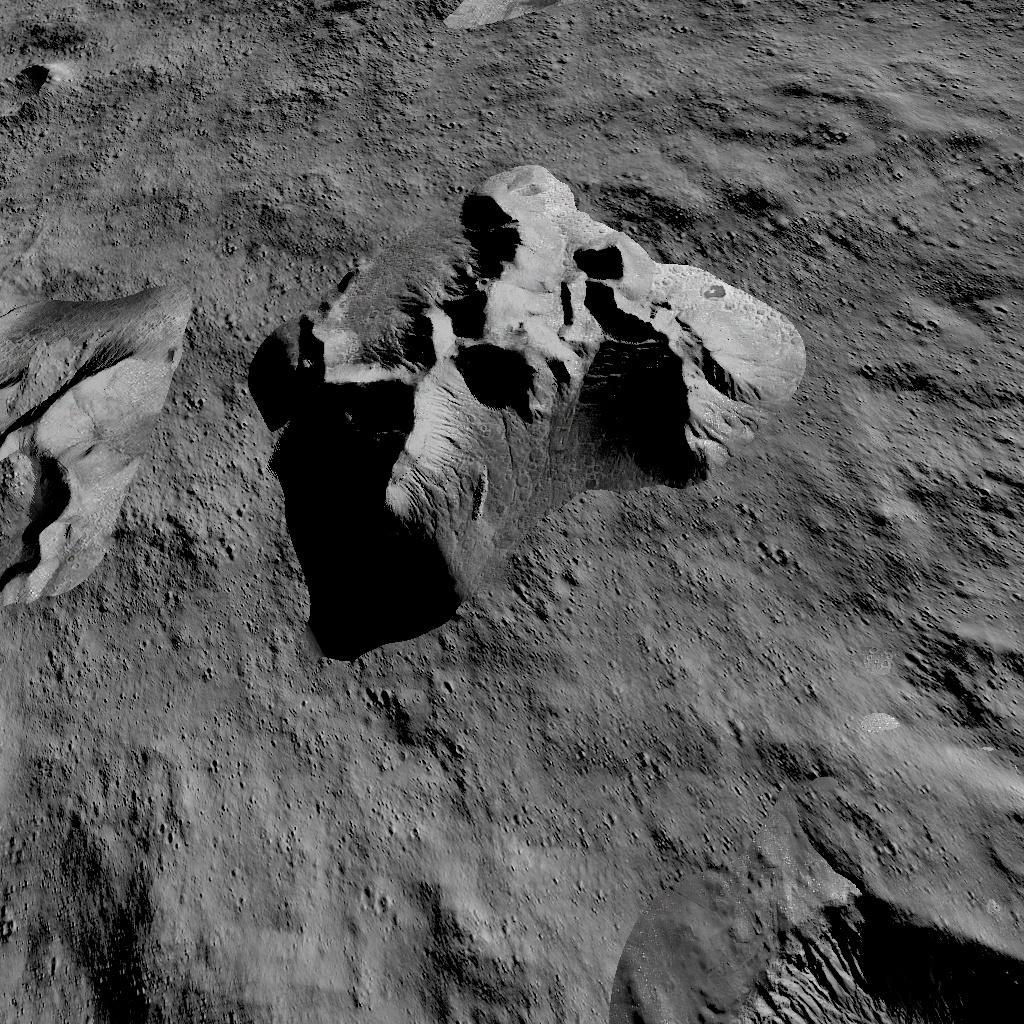Boulders: (245, 152, 809, 664), (4, 269, 188, 626)
Crater: (629, 857, 1024, 1024), (914, 618, 1022, 767), (81, 953, 155, 1024), (2, 46, 67, 108)
Plan surface: (185, 693, 598, 1024), (93, 2, 1024, 124), (829, 152, 1024, 574), (6, 636, 168, 912), (625, 695, 897, 839), (6, 138, 232, 256)
